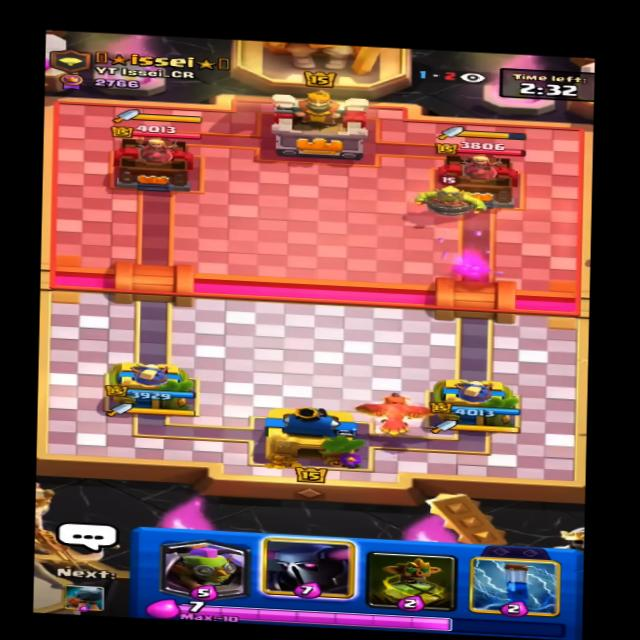goblin-demolisher: (412, 174, 492, 221)
